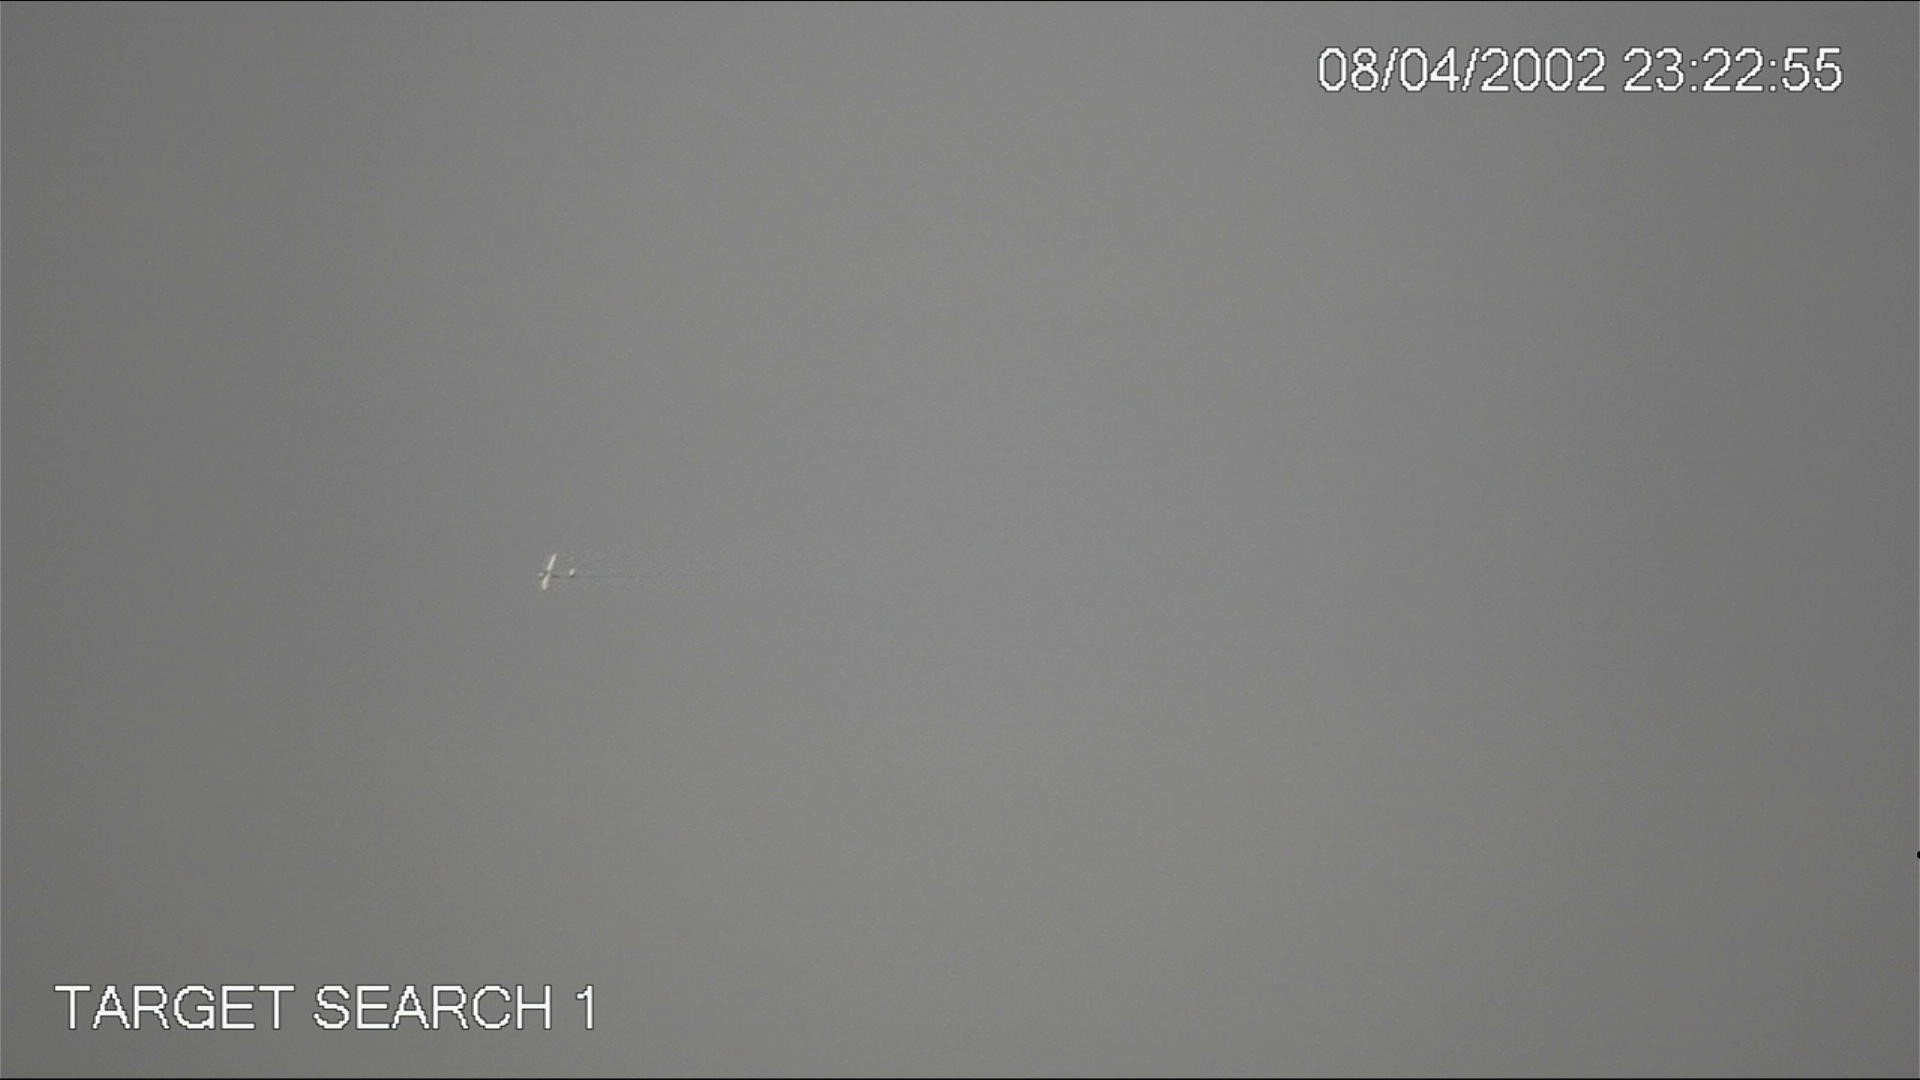SU_30: (531, 546, 579, 597)
